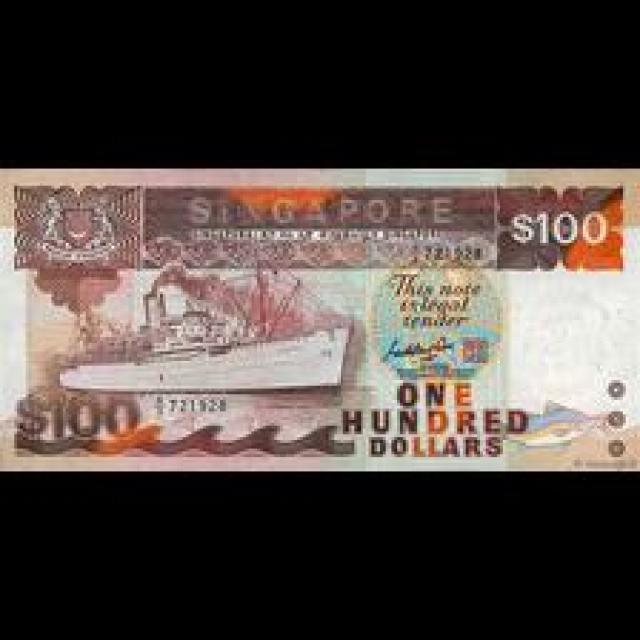banknote: (0, 166, 637, 471), (328, 368, 543, 468), (14, 383, 148, 451), (506, 194, 612, 261)
